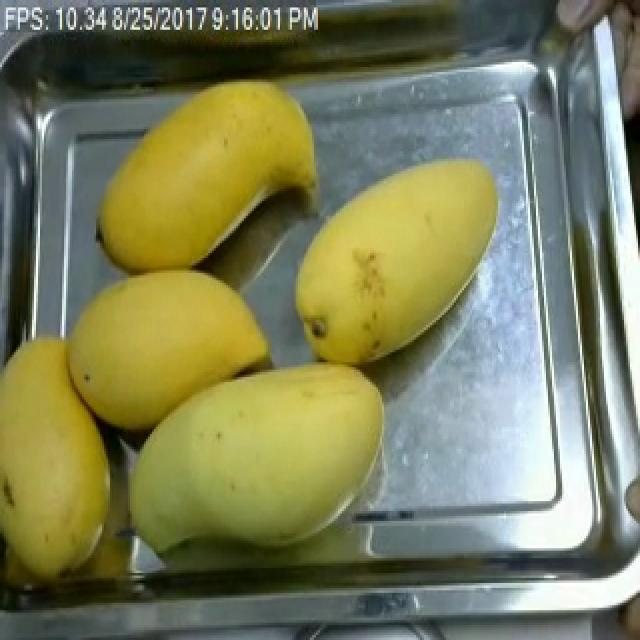fruit: (114, 350, 398, 568), (276, 146, 514, 382), (84, 67, 334, 280), (52, 256, 284, 447), (0, 330, 122, 598)
